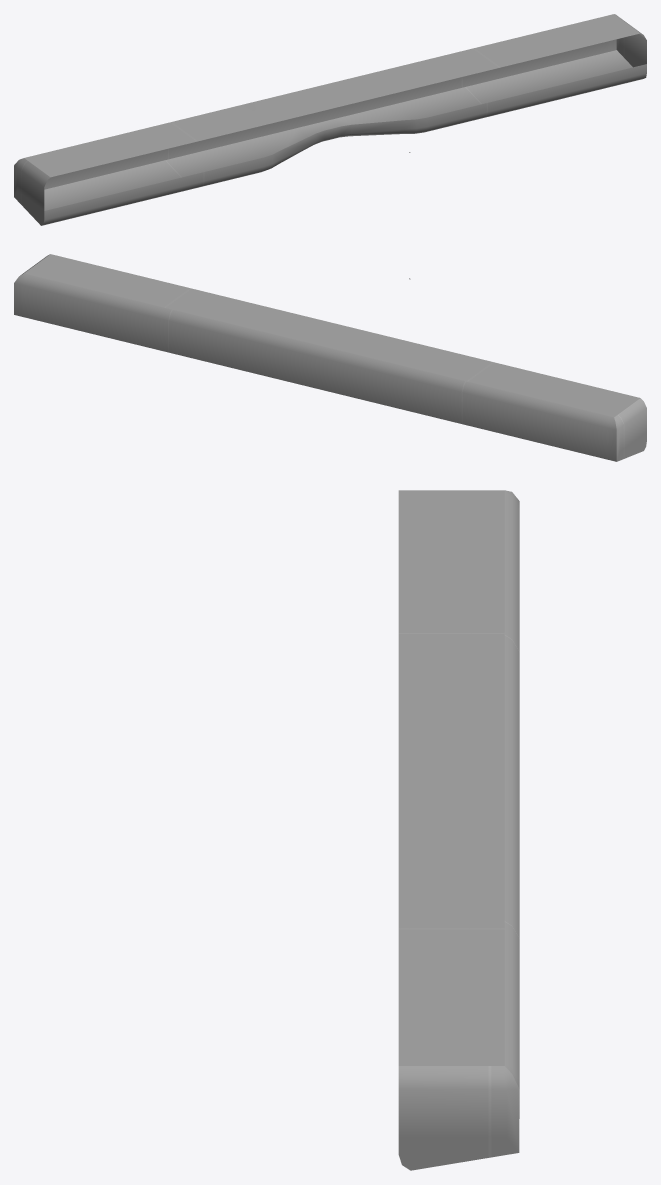
File: MeshTelevision_8_0_GeomSubset_1.obj
The picture shows the model from 3 angles, top to bottom: view 1: azimuth 30°, elevation 25°; view 2: azimuth 150°, elevation 25°; view 3: azimuth 270°, elevation 25°; orthographic projection. The views are drawn at different scales.
Visible parts, largest first — view 1: MeshTelevision_8_0_GeomSubset_1; view 2: MeshTelevision_8_0_GeomSubset_1; view 3: MeshTelevision_8_0_GeomSubset_1.
Part boxes in pixels (x1,y1,x2,y2): MeshTelevision_8_0_GeomSubset_1: (14, 14, 646, 225); MeshTelevision_8_0_GeomSubset_1: (14, 254, 646, 461); MeshTelevision_8_0_GeomSubset_1: (398, 490, 519, 1170).
Size of the model in its own units: 1.02 by 0.0803 by 0.277.
